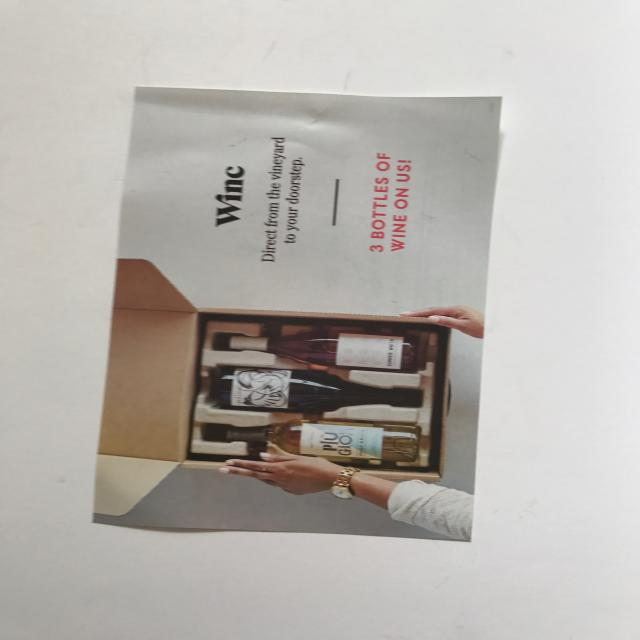Paper: (70, 78, 537, 579)
